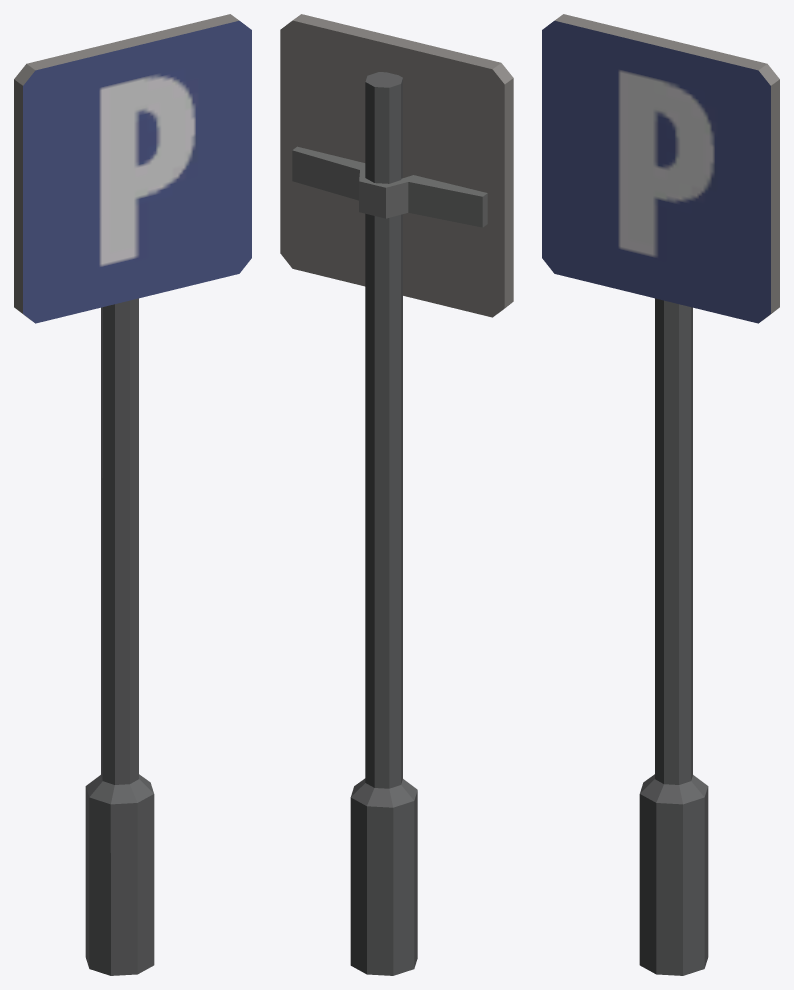
File: sign_parking.glb
3 renders of one model, left to right at view 1: azimuth 30°, elevation 25°; view 2: azimuth 150°, elevation 25°; view 3: azimuth 330°, elevation 25°, orthographic.
Parts seen in each view (by area): view 1: SM_Prop_Sign_Parking_01; view 2: SM_Prop_Sign_Parking_01; view 3: SM_Prop_Sign_Parking_01.
Part boxes in pixels (box(x1,y1,x2,y2)): SM_Prop_Sign_Parking_01: box(14, 14, 251, 975); SM_Prop_Sign_Parking_01: box(280, 14, 513, 975); SM_Prop_Sign_Parking_01: box(542, 14, 779, 975).
Size of the model in its own units: 0.4428 by 1.72 by 0.1186.
1 material, 1 textured.
